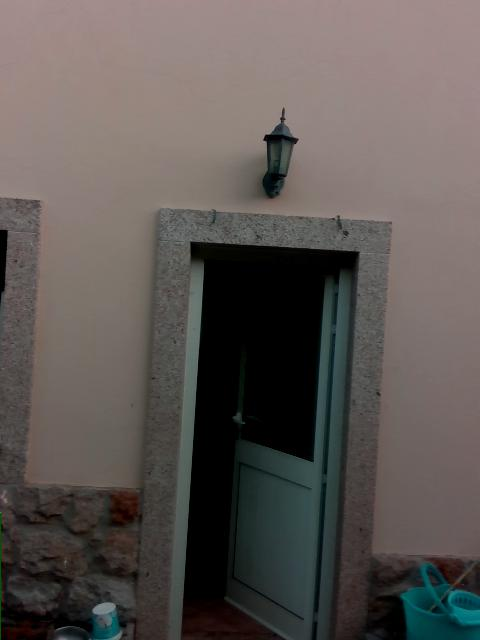semi_door: (168, 240, 359, 639)
